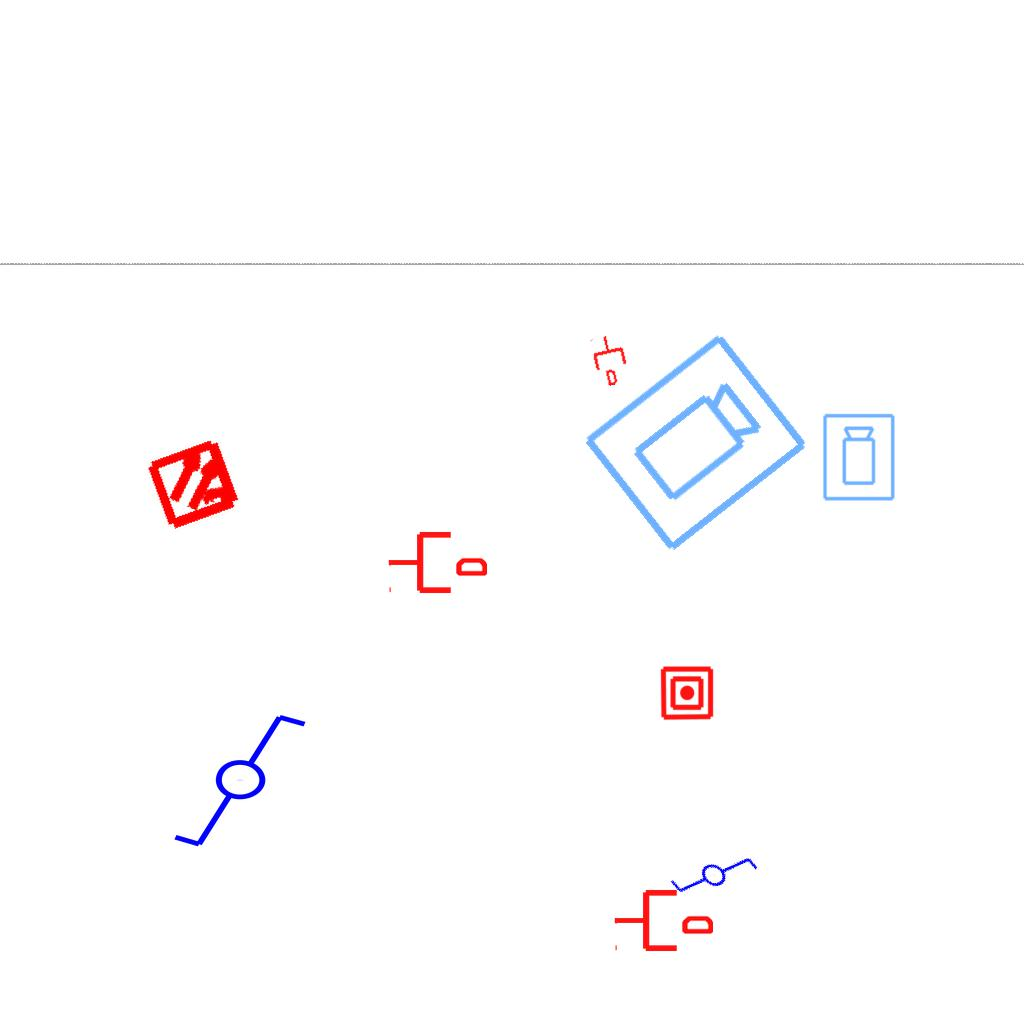Datenanschluss_einfach: (387, 528, 487, 597), (613, 886, 713, 955), (587, 331, 633, 389)
KFO_Kamera_mit_Festobjektiv: (576, 327, 816, 561), (821, 412, 898, 503)
NAM-Nichtautomatischer_Melder: (659, 665, 715, 721)
OT_Multisensormelder_(Kombination_RMO_WMD): (123, 411, 268, 556)
Wechselschalter: (170, 710, 327, 854), (658, 820, 764, 924)
